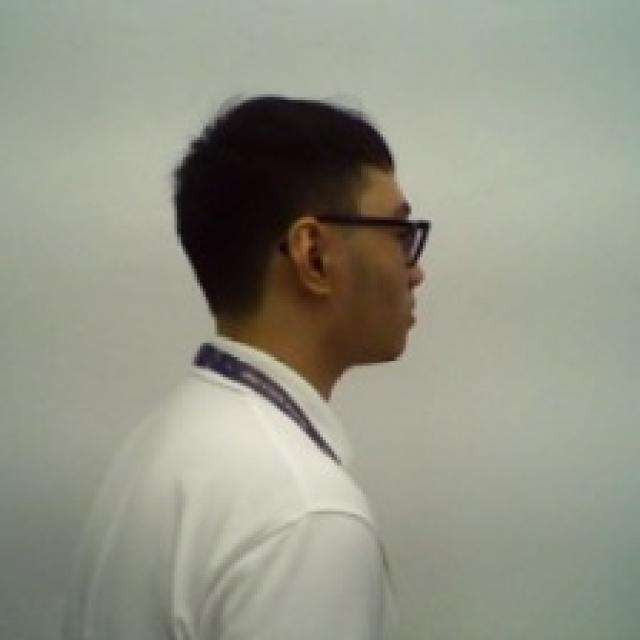no_gloves: (161, 93, 438, 241)
no_hairnet: (269, 216, 434, 391)
